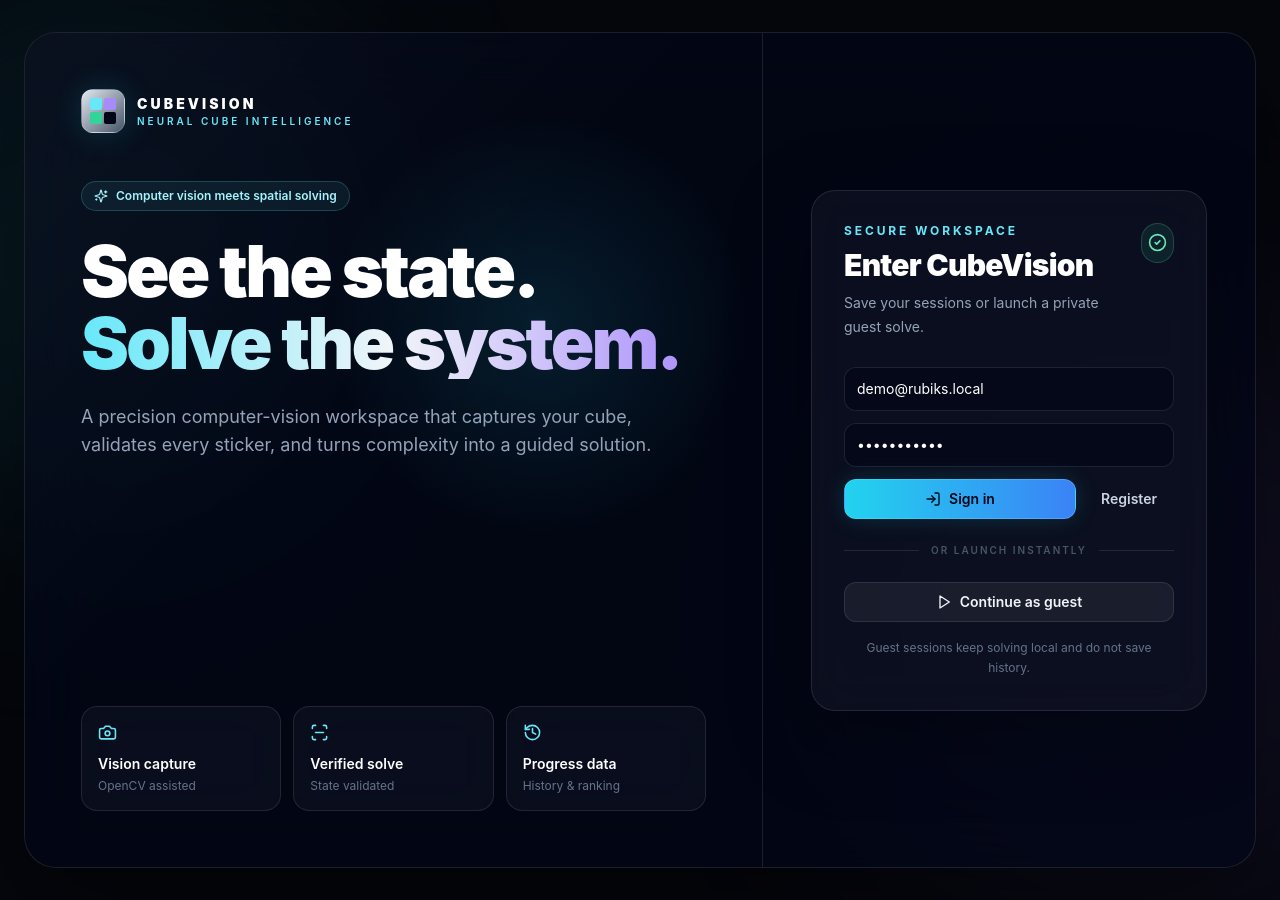
it: WelcomeScreen › allows switching to account registration
What coordinates should you click on to do the following:
click the button "Register"
I would click on:
 (1129, 498)
Its box is [1084,478,1174,518].
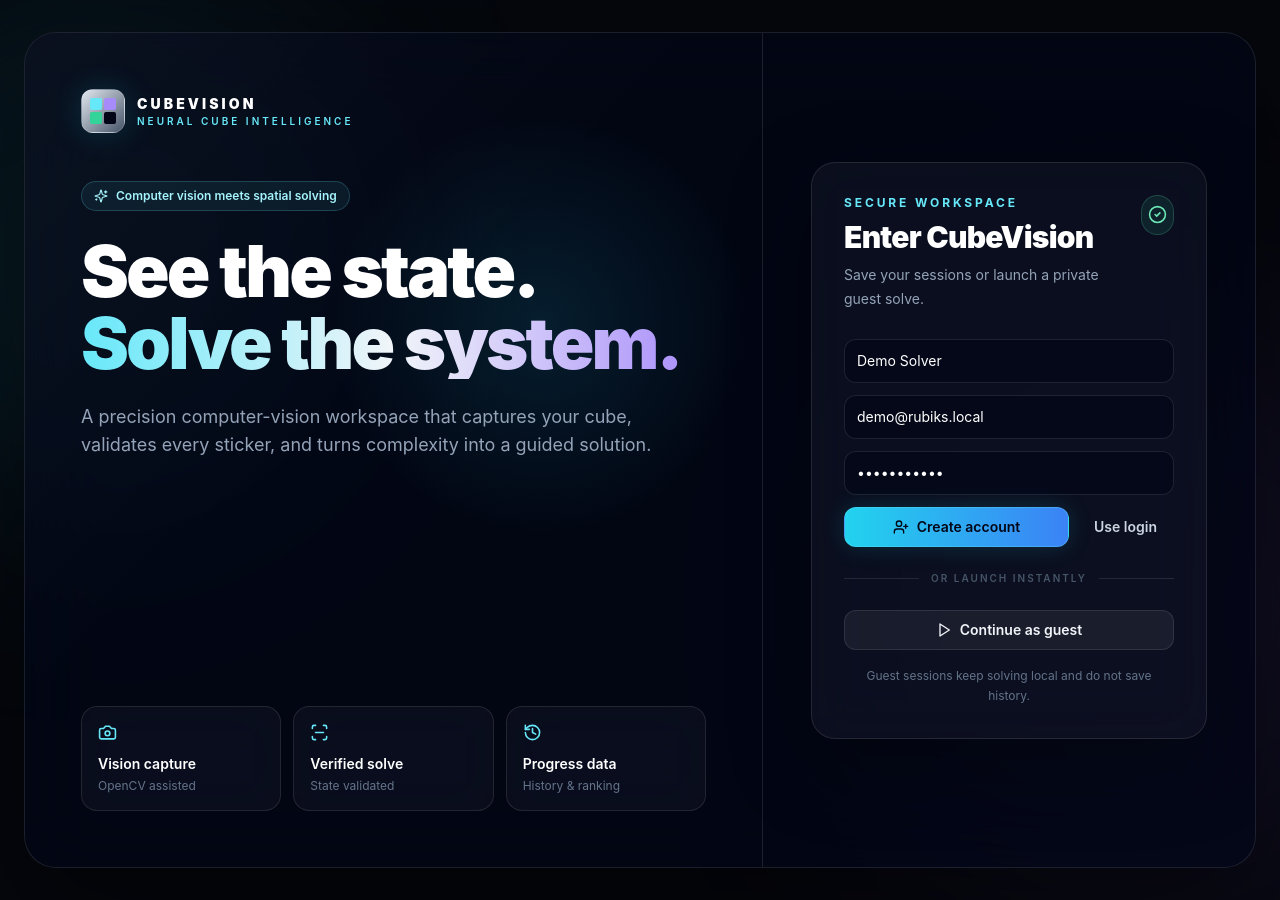
Expected: the button "Create account" is shown, [844,506,1069,546]
Expected: the field named "Name" is shown, [844,338,1174,382]
